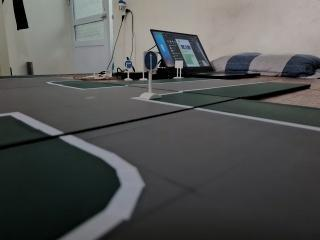straight: (143, 49, 159, 72)
